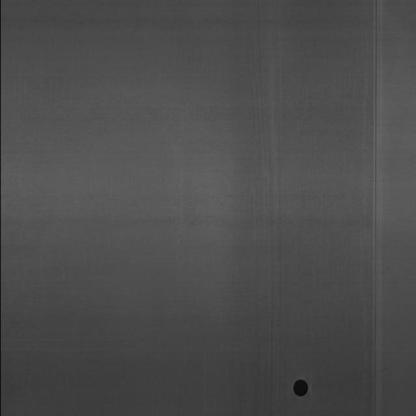punching_hole: (286, 377, 315, 399)
welding_line: (355, 0, 394, 416)
